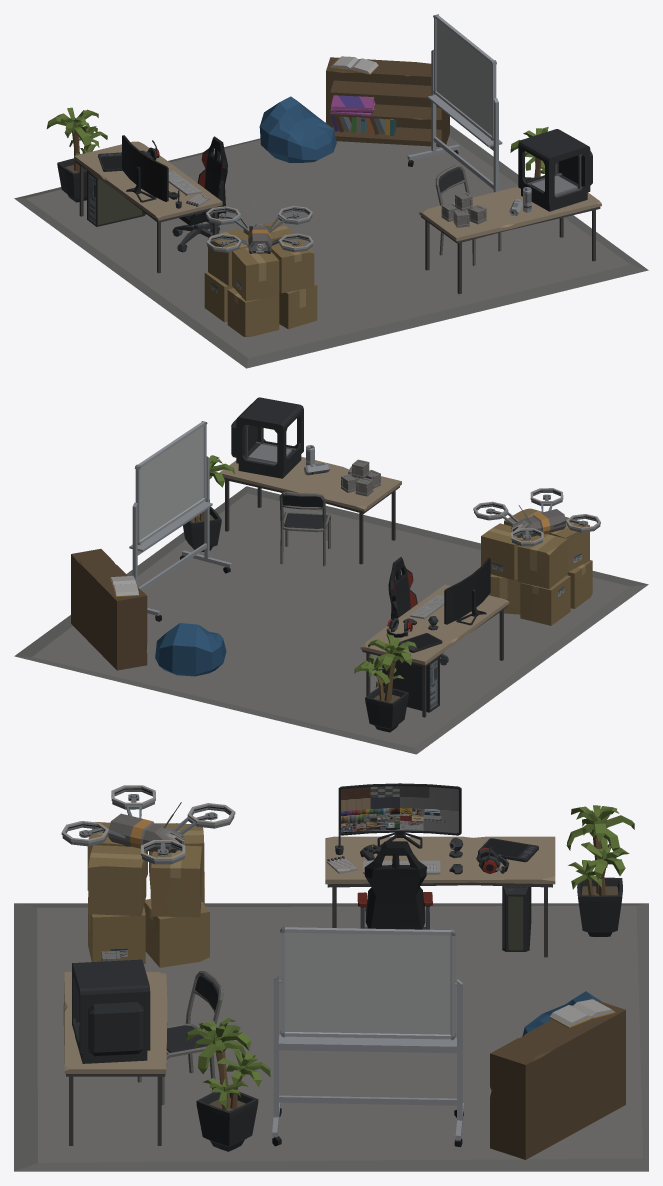
3 renders of one model, top to bottom at view 1: azimuth 30°, elevation 25°; view 2: azimuth 150°, elevation 25°; view 3: azimuth 270°, elevation 25°, orthographic. The views are drawn at different scales.
Visible parts, largest first — view 1: SM_Bld_Floor_Concrete_01, SM_Prop_CardboardBox_Stack_01, SM_Prop_Whiteboard_02, SM_Prop_Shelf_06, SM_Prop_Printer_3D_01, SM_Prop_Desk_01_1, SM_Prop_Desk_01, SM_Prop_Chair_BeanBag_01, SM_Prop_Drone_Quad_01, SM_Prop_Chair_10, SM_Prop_Plant_04, SM_Prop_Computer_Monitor_Curved_01 (+7 smaller); view 2: SM_Bld_Floor_Concrete_01, SM_Prop_CardboardBox_Stack_01, SM_Prop_Whiteboard_02, SM_Prop_Shelf_06, SM_Prop_Printer_3D_01, SM_Prop_Desk_01_1, SM_Prop_Desk_01, SM_Prop_Plant_04, SM_Prop_Chair_BeanBag_01, SM_Prop_Drone_Quad_01, SM_Prop_Chair_01, SM_Prop_Computer_Monitor_Curved_01 (+3 smaller); view 3: SM_Bld_Floor_Concrete_01, SM_Prop_Whiteboard_02, SM_Prop_Shelf_06, SM_Prop_CardboardBox_Stack_01, SM_Prop_Printer_3D_01, SM_Prop_Desk_01, SM_Prop_Computer_Monitor_Curved_01, SM_Prop_Plant_04_1, SM_Prop_Plant_04, SM_Prop_Drone_Quad_01, SM_Prop_Chair_10, SM_Prop_Desk_01_1 (+6 smaller).
Part boxes in pixels (x1,y1,x2,y2): SM_Bld_Floor_Concrete_01: [14, 122, 648, 368]; SM_Prop_CardboardBox_Stack_01: [204, 220, 317, 336]; SM_Prop_Whiteboard_02: [407, 14, 502, 192]; SM_Prop_Shelf_06: [326, 57, 449, 146]; SM_Prop_Printer_3D_01: [518, 129, 592, 211]; SM_Prop_Desk_01_1: [419, 186, 601, 294]; SM_Prop_Desk_01: [74, 141, 222, 273]; SM_Prop_Chair_BeanBag_01: [259, 96, 336, 162]; SM_Prop_Drone_Quad_01: [206, 200, 313, 253]; SM_Prop_Chair_10: [172, 136, 227, 252]; SM_Prop_Plant_04: [46, 107, 107, 202]; SM_Prop_Computer_Monitor_Curved_01: [122, 135, 168, 202]; SM_Bld_Floor_Concrete_01: [14, 486, 648, 754]; SM_Prop_CardboardBox_Stack_01: [481, 508, 592, 625]; SM_Prop_Whiteboard_02: [129, 421, 231, 621]; SM_Prop_Shelf_06: [71, 549, 147, 670]; SM_Prop_Printer_3D_01: [231, 397, 303, 478]; SM_Prop_Desk_01_1: [219, 456, 401, 564]; SM_Prop_Desk_01: [360, 584, 509, 717]; SM_Prop_Plant_04: [354, 634, 416, 732]; SM_Prop_Chair_BeanBag_01: [155, 623, 226, 676]; SM_Prop_Drone_Quad_01: [473, 488, 600, 546]; SM_Prop_Chair_01: [279, 491, 330, 566]; SM_Prop_Computer_Monitor_Curved_01: [444, 558, 490, 625]; SM_Bld_Floor_Concrete_01: [14, 903, 648, 1171]; SM_Prop_Whiteboard_02: [272, 926, 463, 1147]; SM_Prop_Shelf_06: [490, 998, 625, 1159]; SM_Prop_CardboardBox_Stack_01: [87, 822, 209, 967]; SM_Prop_Printer_3D_01: [72, 959, 150, 1063]; SM_Prop_Desk_01: [325, 836, 555, 957]; SM_Prop_Computer_Monitor_Curved_01: [338, 783, 461, 848]; SM_Prop_Plant_04_1: [185, 1017, 270, 1151]; SM_Prop_Plant_04: [566, 805, 634, 936]; SM_Prop_Drone_Quad_01: [61, 785, 235, 864]; SM_Prop_Chair_10: [357, 841, 432, 929]; SM_Prop_Desk_01_1: [63, 972, 167, 1145].
Bounding box in the file's own units: 541 × 194 × 541.
1 material, 1 textured.
